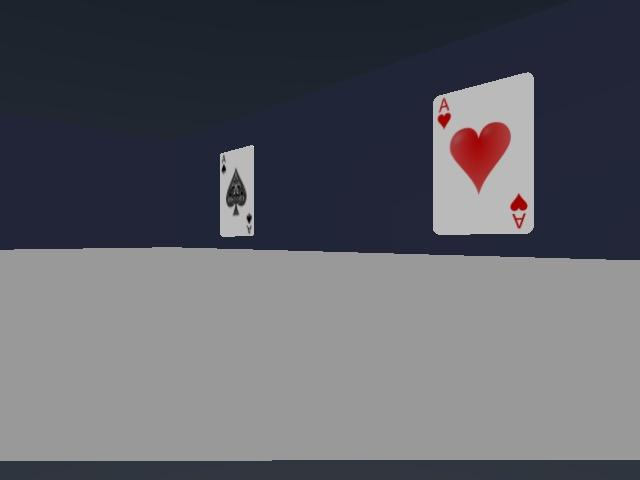heart: (433, 73, 533, 234)
spade: (219, 146, 255, 237)
